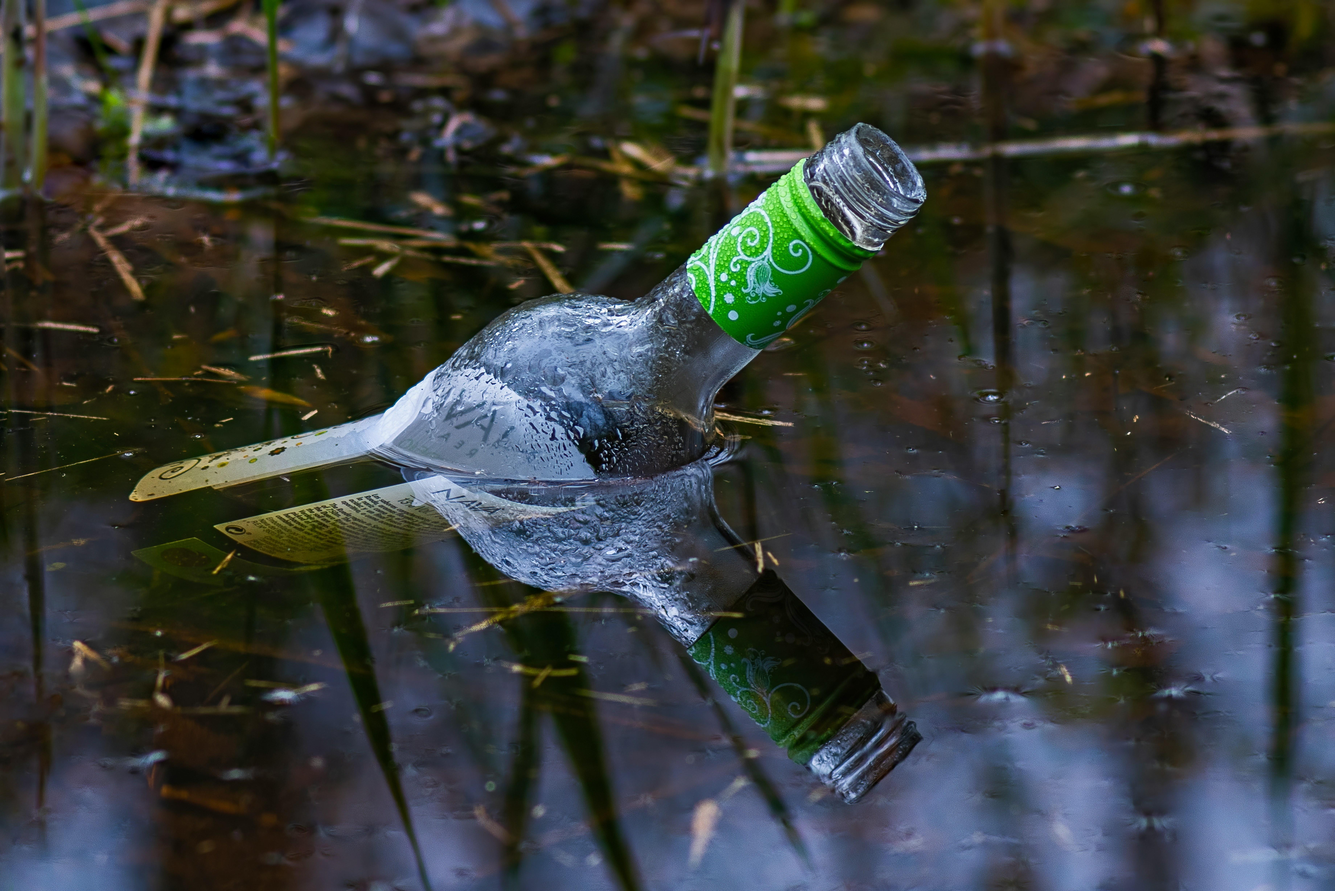Bottle-Detection: (321, 89, 987, 542)
